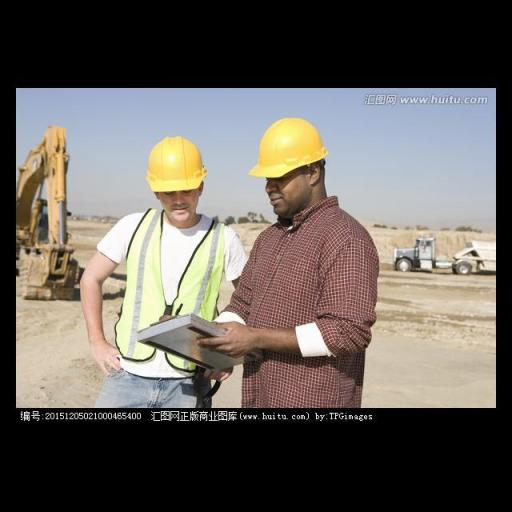Person: (217, 113, 393, 400), (73, 128, 250, 411)
helmet: (242, 114, 327, 179), (139, 133, 212, 195)
none: (226, 212, 378, 401)
vest: (116, 213, 222, 371)
